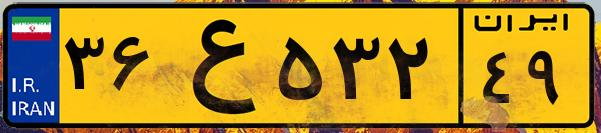2: (385, 28, 445, 110)
3: (330, 28, 385, 110), (57, 26, 110, 100)
4: (475, 38, 525, 113)
5: (270, 28, 330, 110)
6: (110, 28, 158, 98)
9: (525, 38, 570, 115)
ع: (158, 12, 270, 120)
